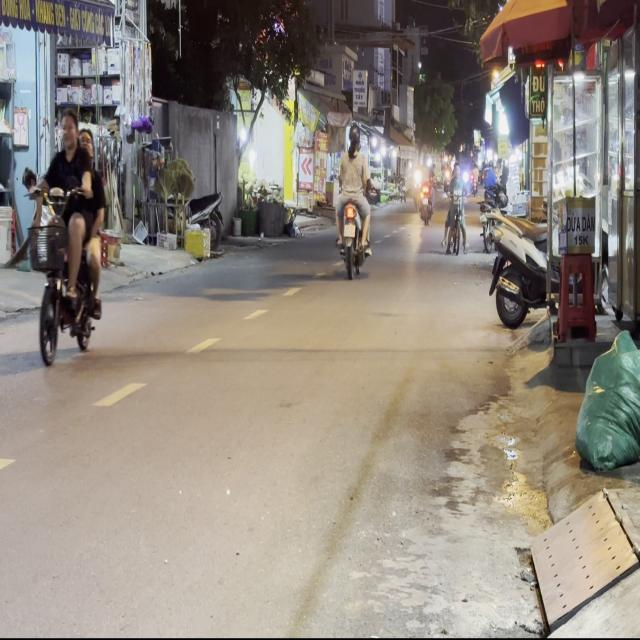licenseplate: (27, 101, 107, 367)
motorcyclist: (58, 105, 80, 152)
